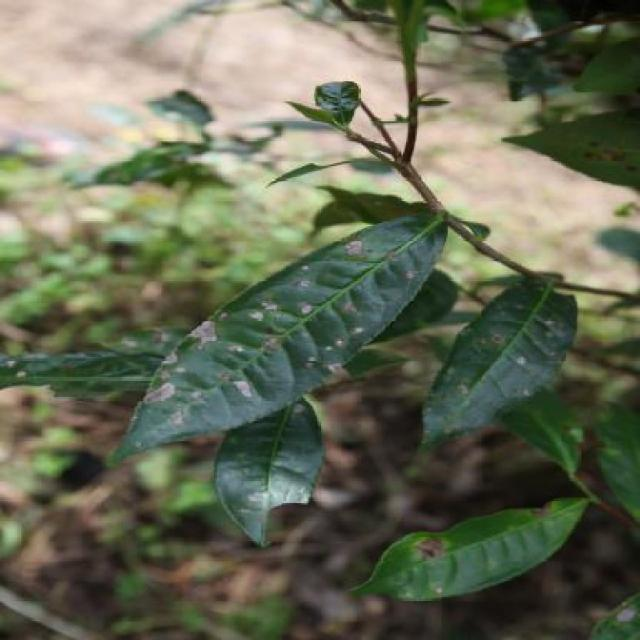Leaf rust of tea: (134, 197, 454, 465), (458, 260, 584, 454)
